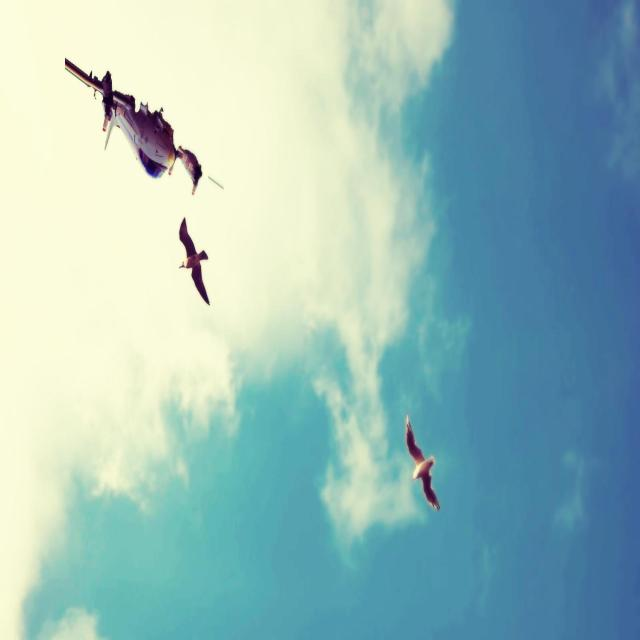airplane: (64, 56, 224, 195)
